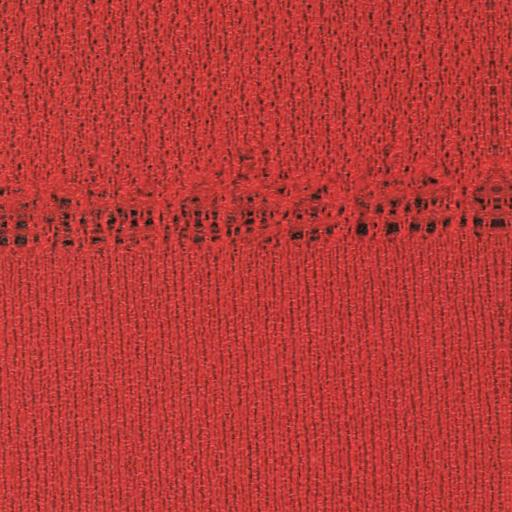slub: (0, 184, 512, 262)
